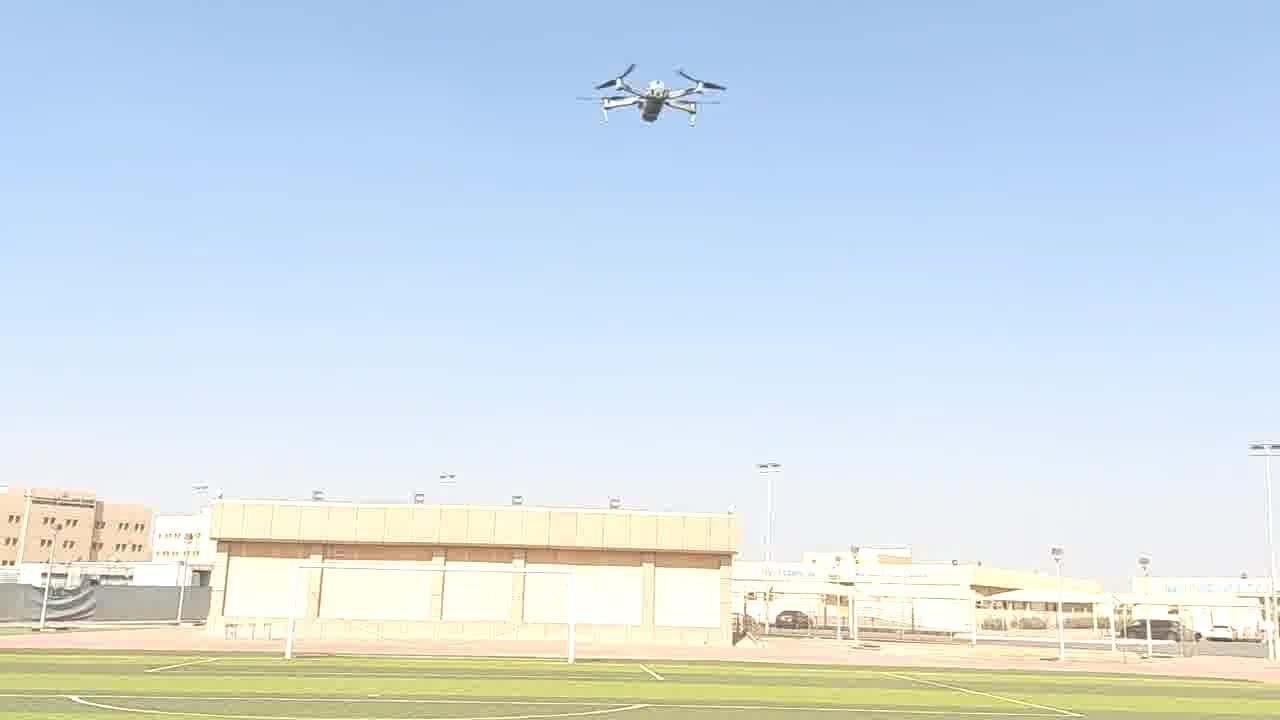drone: (574, 58, 729, 129)
